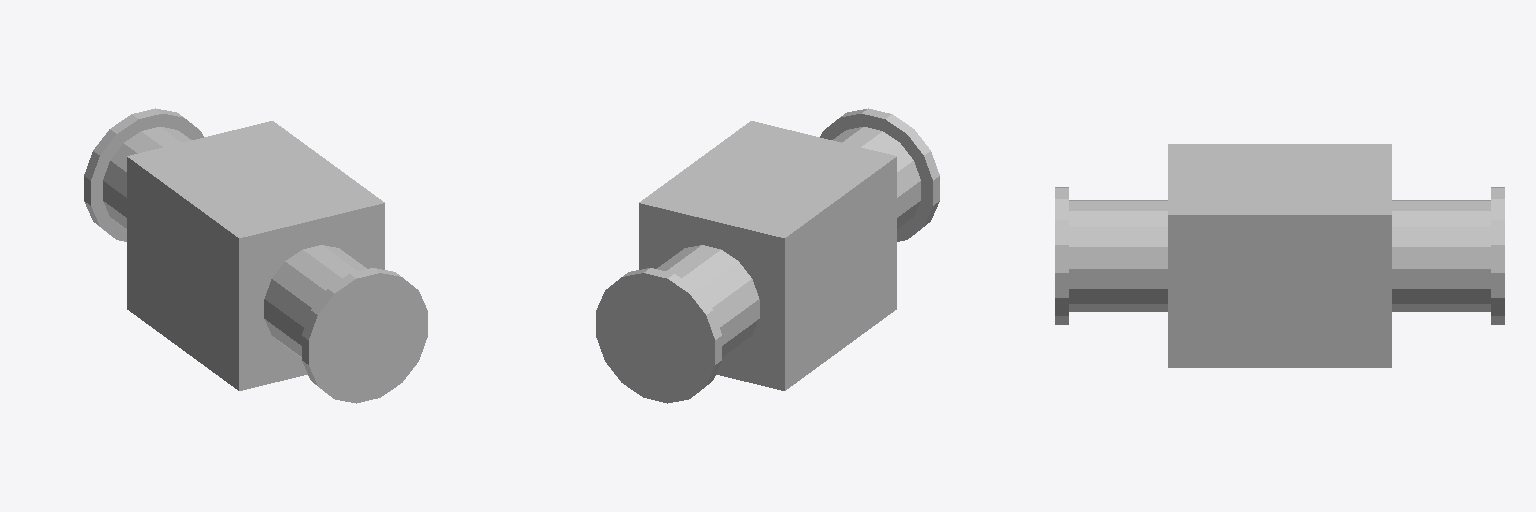
The model's file is pipeworks_flow_sensor.obj.
3 renders of one model, left to right at view 1: azimuth 30°, elevation 25°; view 2: azimuth 150°, elevation 25°; view 3: azimuth 270°, elevation 25°, orthographic.
Visible parts, largest first — view 1: Cube.001; view 2: Cube.001; view 3: Cube.001.
Boxes of the visible parts, box(x1,y1,x2,y2) form: Cube.001: box(84, 108, 427, 403); Cube.001: box(596, 108, 939, 403); Cube.001: box(1055, 144, 1504, 367).
Bounding box in the file's own units: 0.375 × 0.375 × 1.